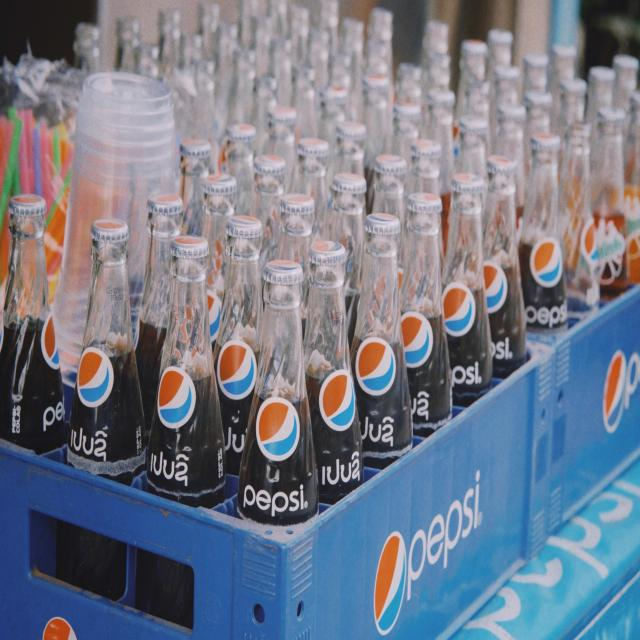electronic: (235, 256, 320, 536)
